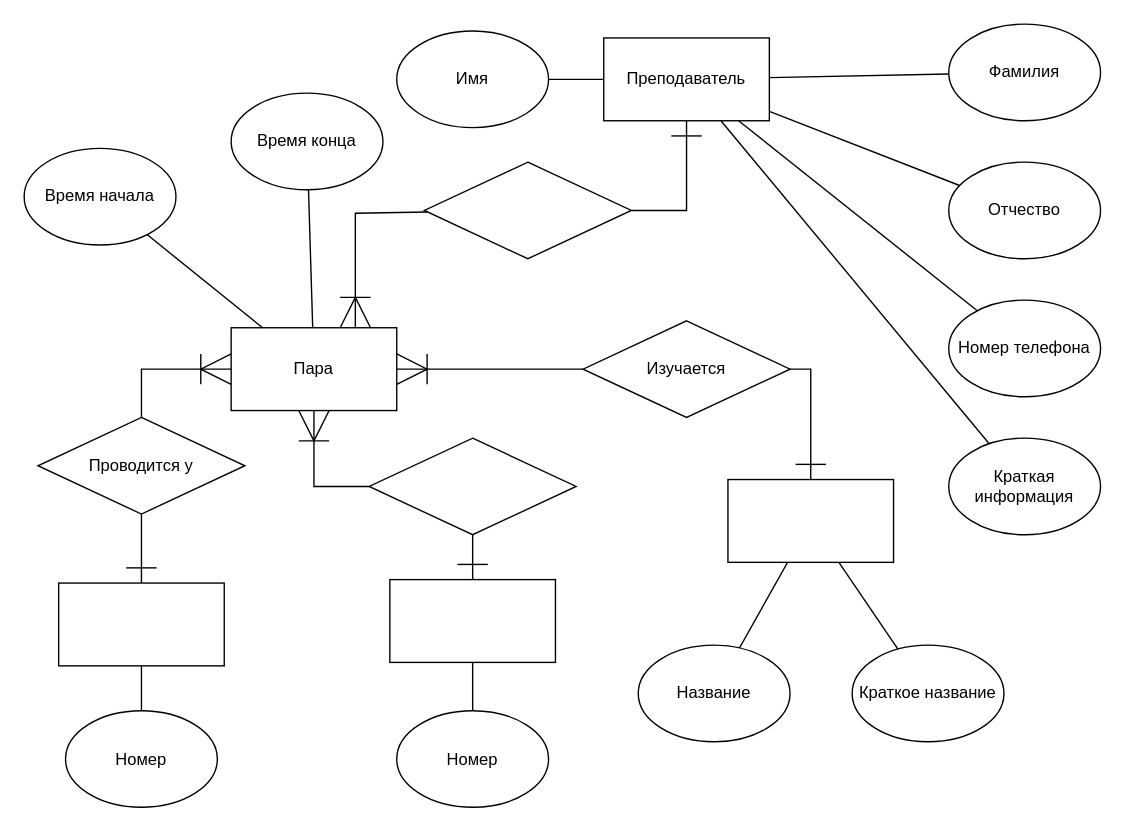
Some shapes in this 1125 by 832 pixel diagram are drawn without their labels. Here are the shapes that lost their labels. From the top down, the centre of each, then its label:
At pixel 527 210: "Ведет".
At pixel 472 486: "Проводится в".
At pixel 810 520: "Предмет".
At pixel 140 624: "Группа".
At pixel 471 620: "Аудитория".
